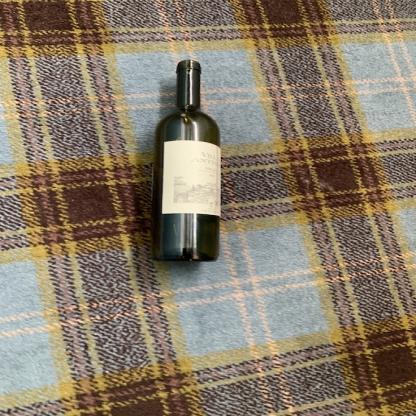trash: (147, 60, 226, 264)
